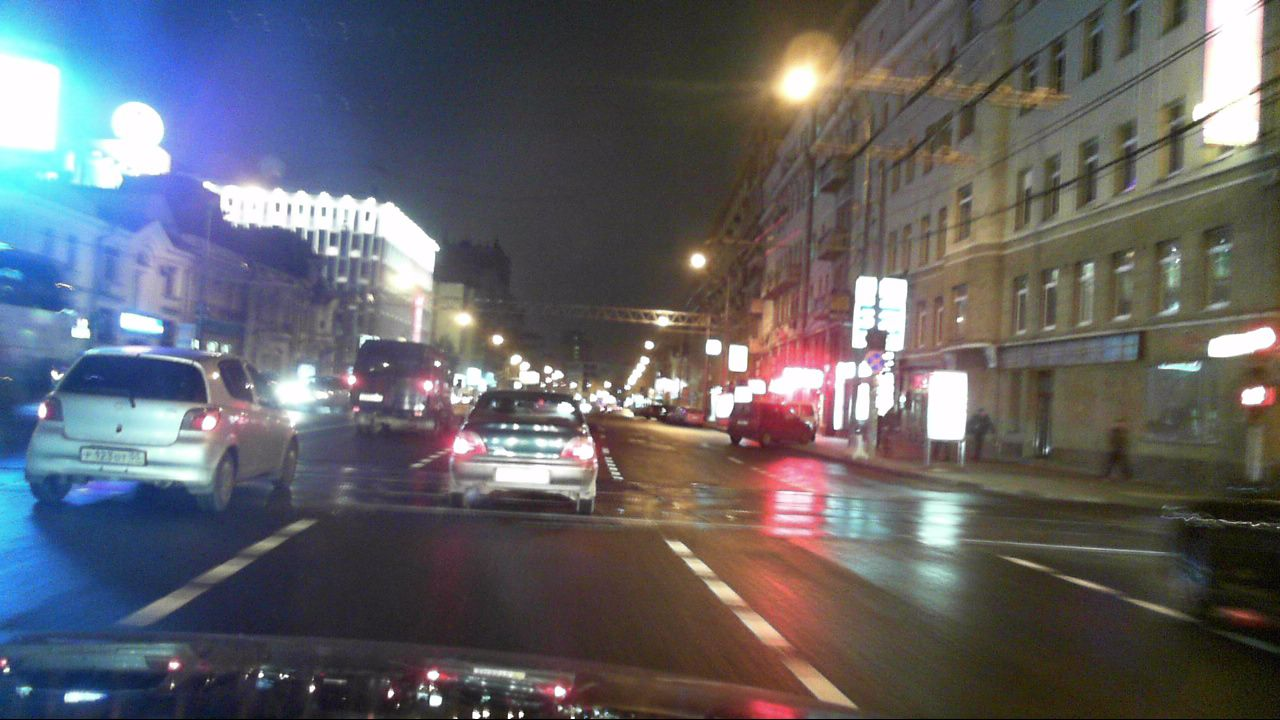No Parking: (865, 350, 884, 371)
